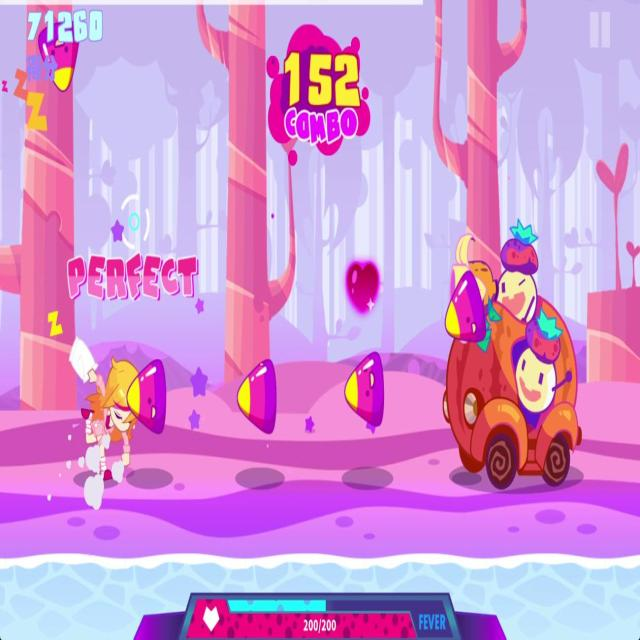cheboss: (444, 238, 584, 485)
jian: (342, 345, 388, 436), (441, 270, 487, 343), (126, 356, 166, 435), (238, 357, 278, 434)
xin: (344, 261, 385, 317)
